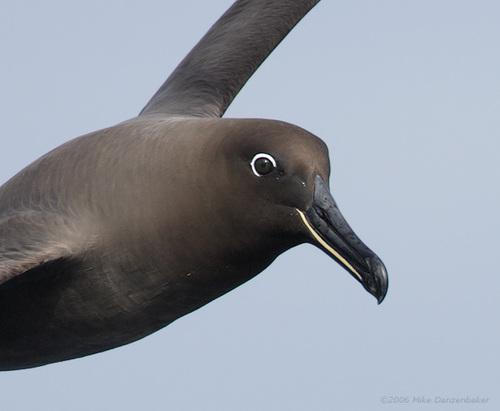003.Sooty_Albatross: (1, 2, 389, 374)
